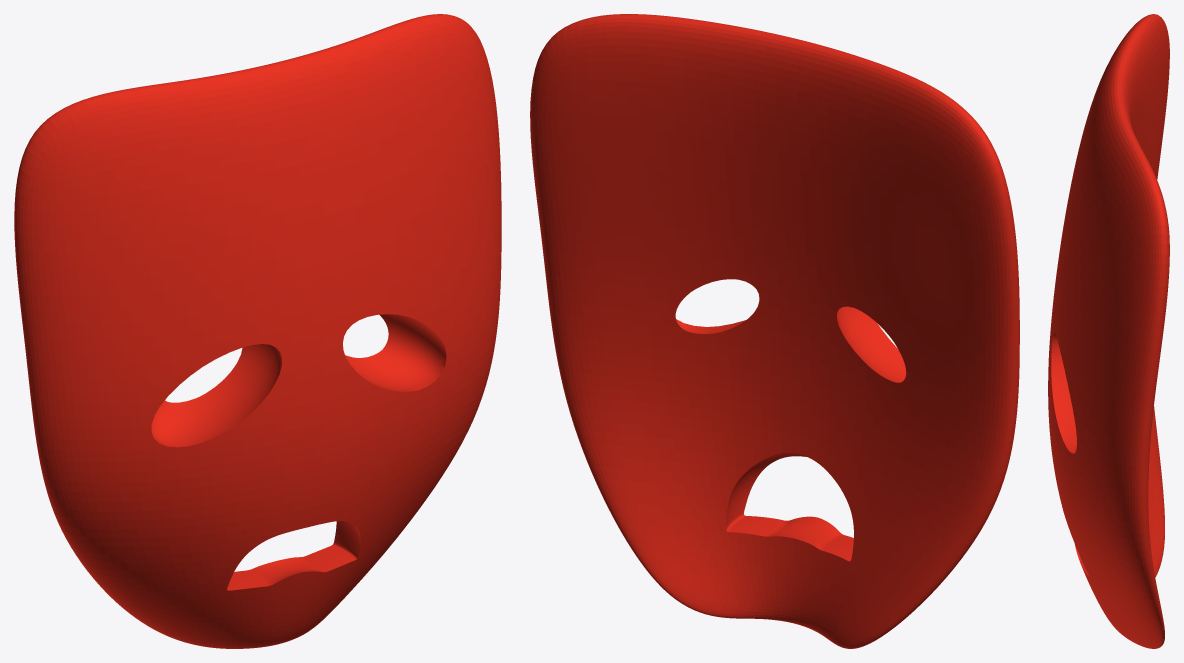
File: indian1_mask.glb
The picture shows the model from 3 angles, left to right: view 1: azimuth 30°, elevation 25°; view 2: azimuth 150°, elevation 25°; view 3: azimuth 270°, elevation 25°; orthographic projection. The views are drawn at different scales.
Parts seen in each view (by area): view 1: Cube.002; view 2: Cube.002; view 3: Cube.002.
Boxes of the visible parts, x1=… form: Cube.002: x1=14, y1=14, x2=501, y2=648; Cube.002: x1=530, y1=14, x2=1019, y2=648; Cube.002: x1=1048, y1=14, x2=1169, y2=648.
Bounding box in the file's own units: 2.6 × 3.01 × 0.622.
